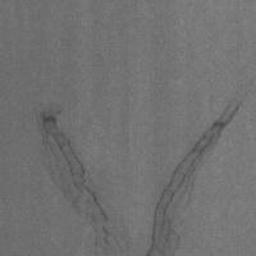Water spot: (28, 96, 243, 256)
